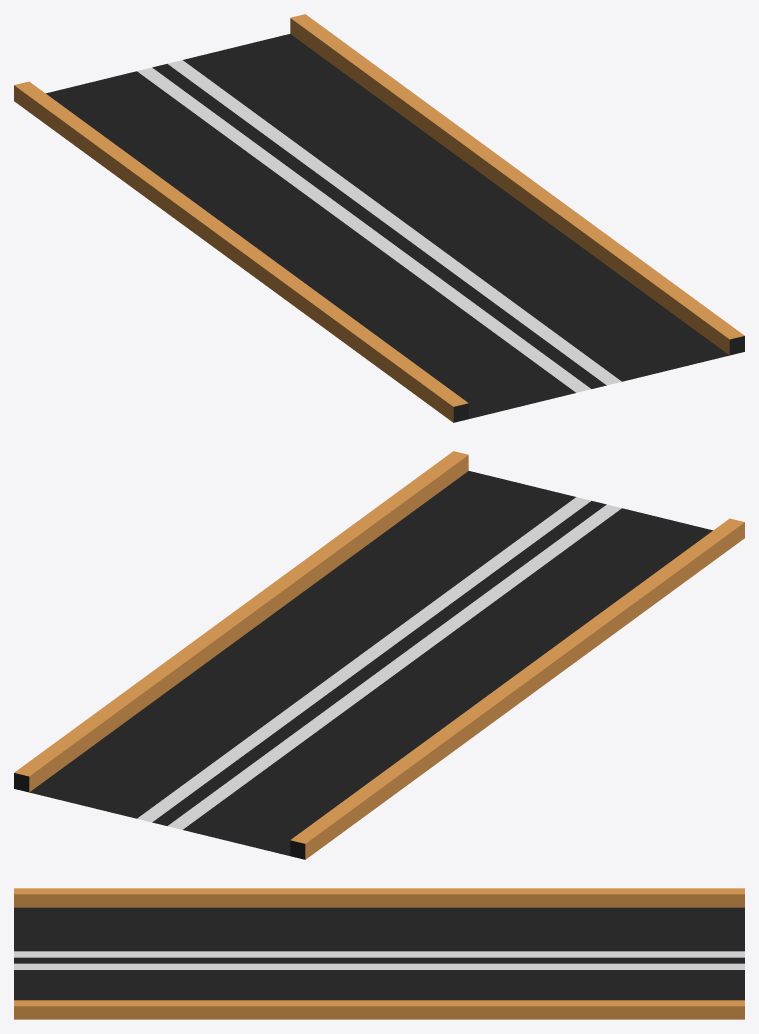
Rendered from Road_Straight.fbx.
3 renders of one model, top to bottom at view 1: azimuth 30°, elevation 25°; view 2: azimuth 150°, elevation 25°; view 3: azimuth 270°, elevation 25°, orthographic. The views are drawn at different scales.
Parts seen in each view (by area): view 1: RoadStraight.002; view 2: RoadStraight.002; view 3: RoadStraight.002.
Boxes of the visible parts, x1,y1,x2,y2 form: RoadStraight.002: (14,14,744,422); RoadStraight.002: (14,451,744,859); RoadStraight.002: (14,888,744,1019).
Size of the model in its own units: 38.26 by 2 by 99.94.
